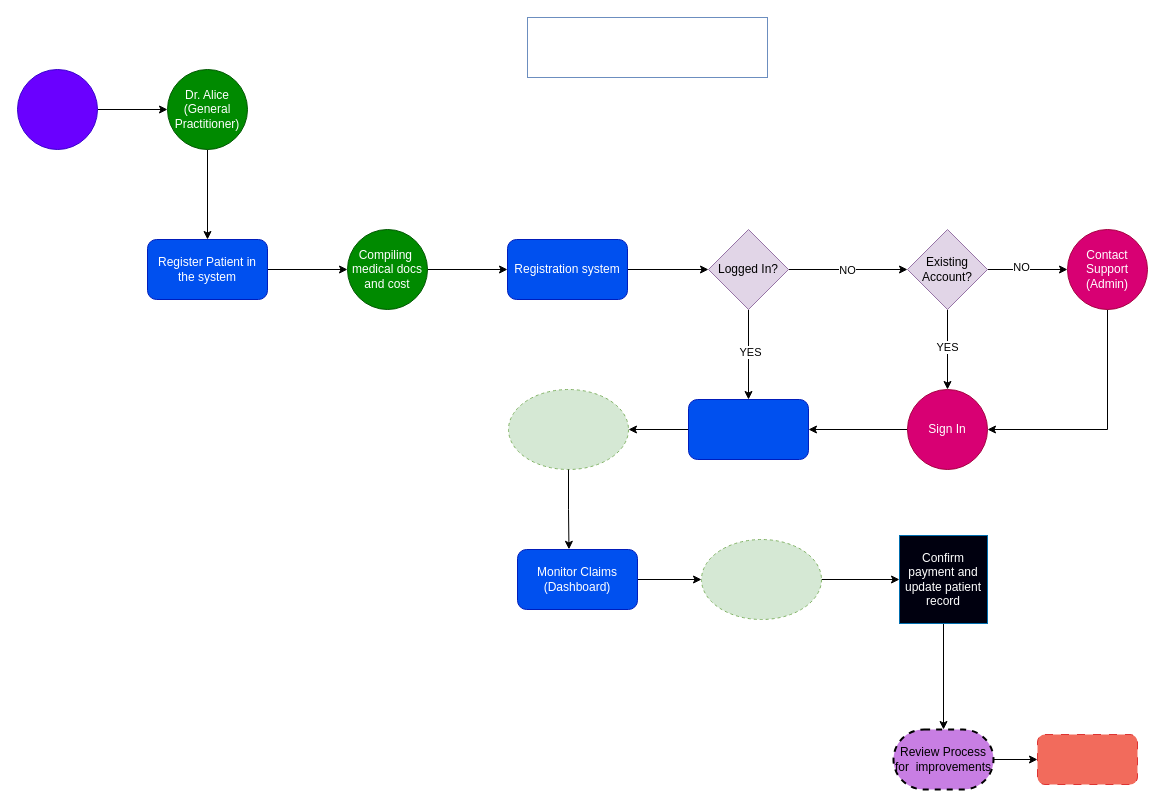
Some shapes in this 1165 by 808 pixel diagram are drawn without their labels. Each missing label, with the centre of its shape:
Exit: point (1087, 759)
Journey - User | Dr Alice: point (647, 47)
Notification of approval or +info needed: point (761, 579)
Patient Visit: point (57, 109)
Receives automatic confirmation: point (568, 429)
Upload docs and submits claim: point (748, 429)
